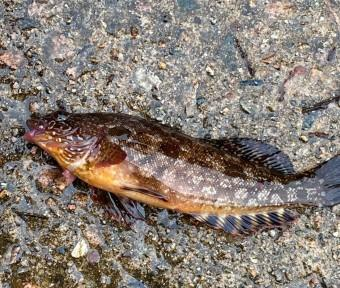fish: (25, 111, 339, 234)
